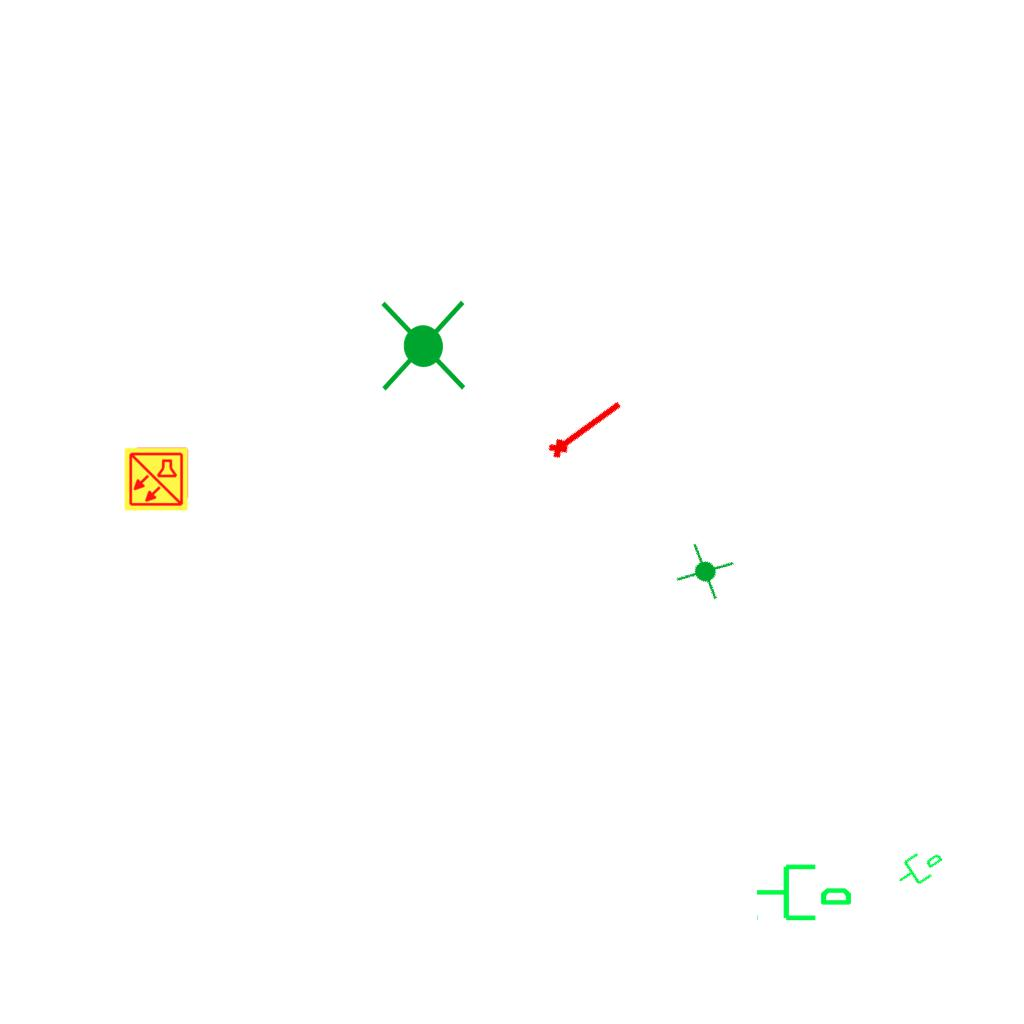ASR_Ansaugoeffnung: (542, 392, 628, 463)
Datenanschluss_einfach: (754, 856, 854, 925), (888, 839, 950, 895)
Notlichtbaustein_in_Allgemeinbeleuchtug_engebaut_Einbau_(1UG_und_2UG_Aufbauvaria: (373, 296, 476, 396), (671, 536, 740, 606)
OKW_Multisensormelder_(Kombination_optischer_Rauch-Kahlenmonoxid_Waerme-Melder): (123, 446, 189, 512)
